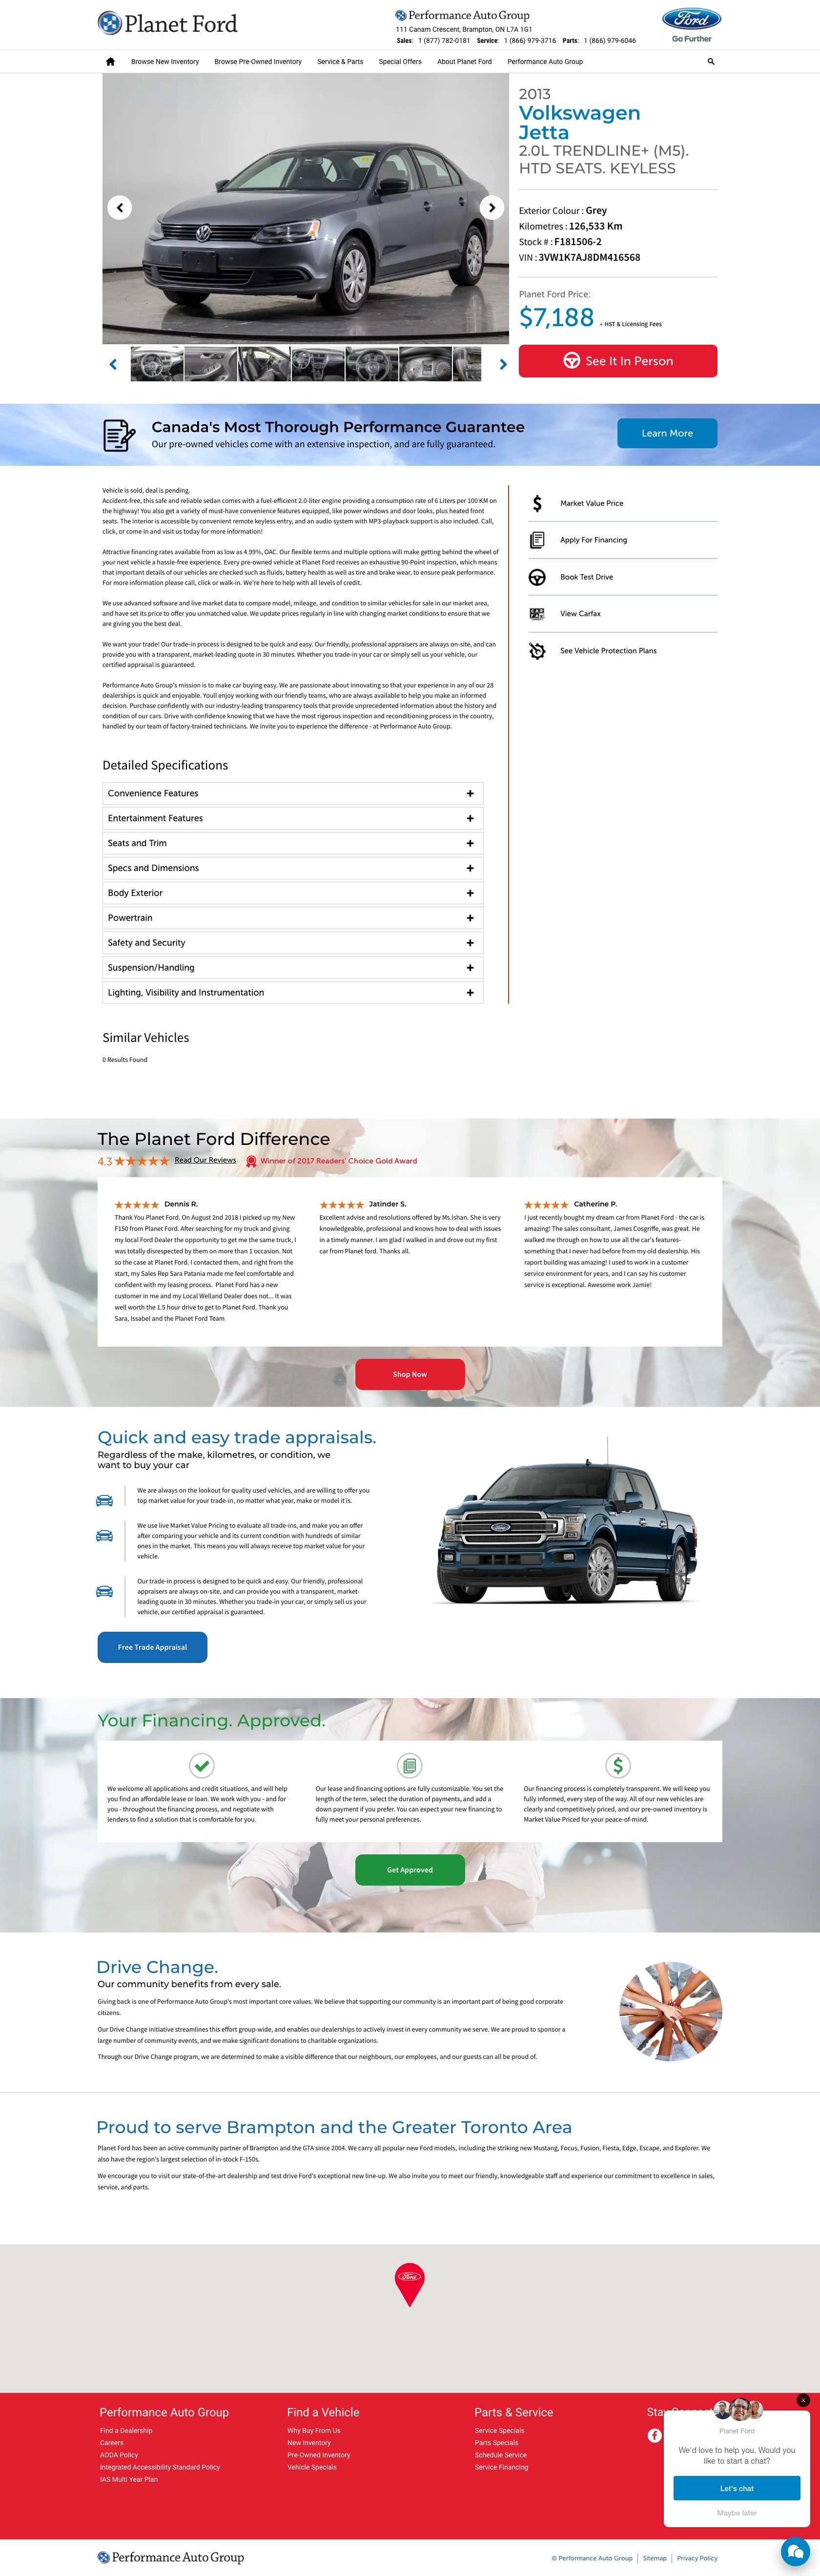car: (500, 358, 508, 371)
